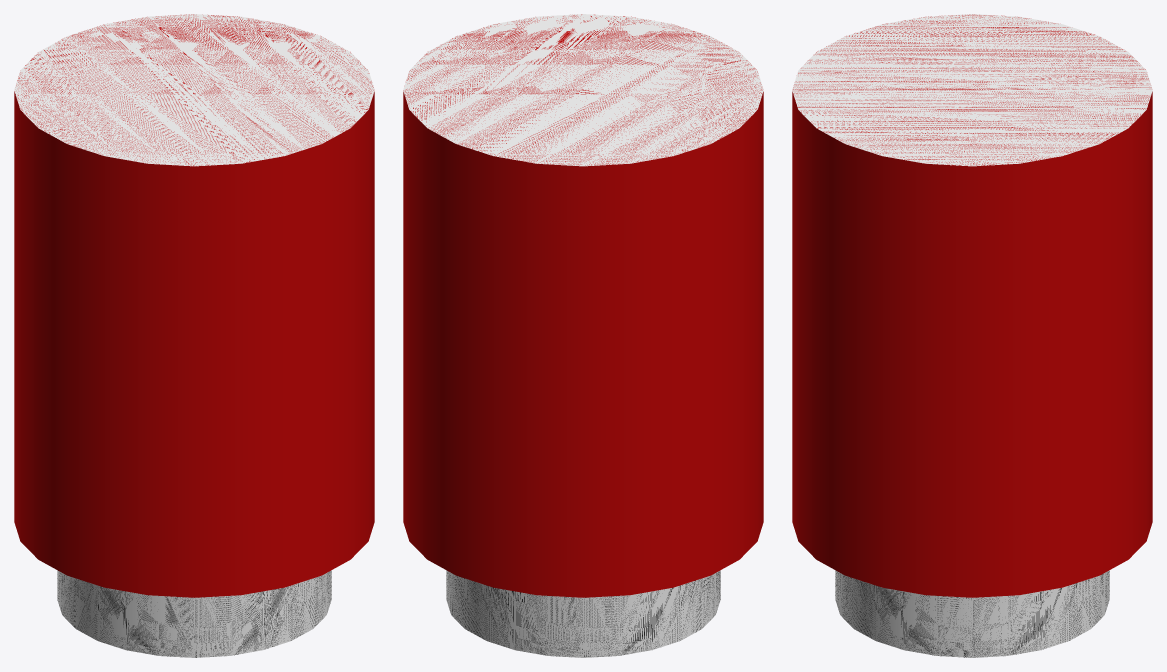
Rendered from Robot Body.dae.
3 renders of one model, left to right at view 1: azimuth 30°, elevation 25°; view 2: azimuth 150°, elevation 25°; view 3: azimuth 270°, elevation 25°, orthographic.
Visible parts, largest first — view 1: SketchUp (×3); view 2: SketchUp (×3); view 3: SketchUp (×3).
Part boxes in pixels (box(x1,y1,x2,y2)): SketchUp (×3): box(14, 14, 374, 657); SketchUp (×3): box(403, 14, 763, 657); SketchUp (×3): box(792, 14, 1152, 657).
Bounding box in the file's own units: 19.69 × 19.69 × 30.71.
